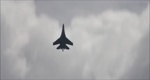maybay_muctieu: (53, 23, 74, 50)
